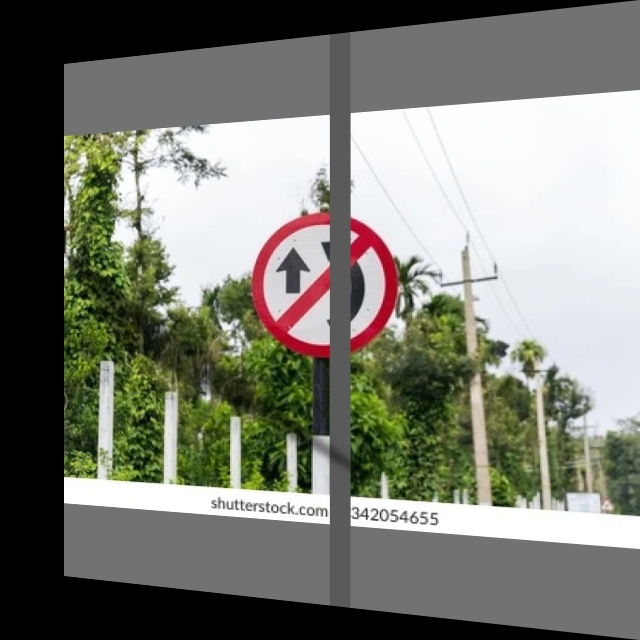Overtaking_Prohibited: (252, 214, 400, 362)
